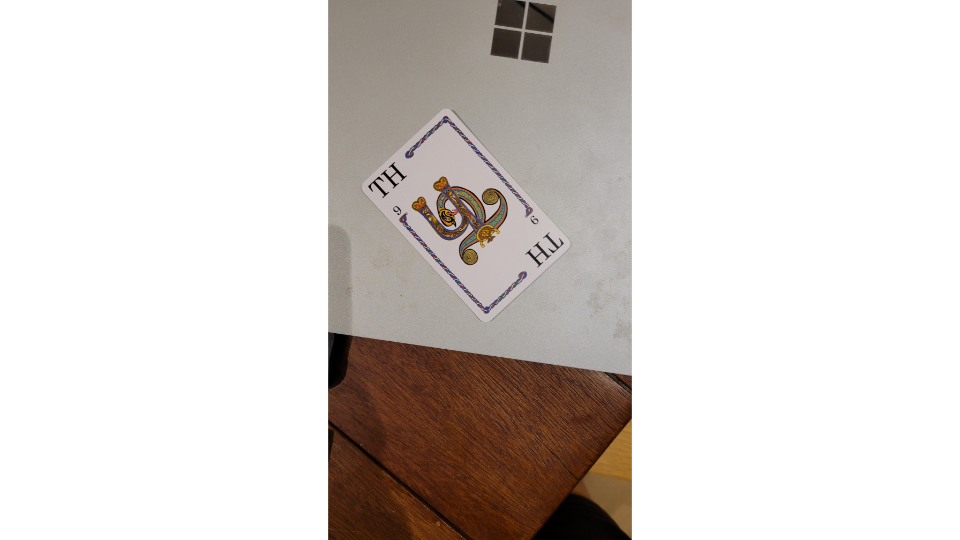TH: (358, 107, 575, 325)
